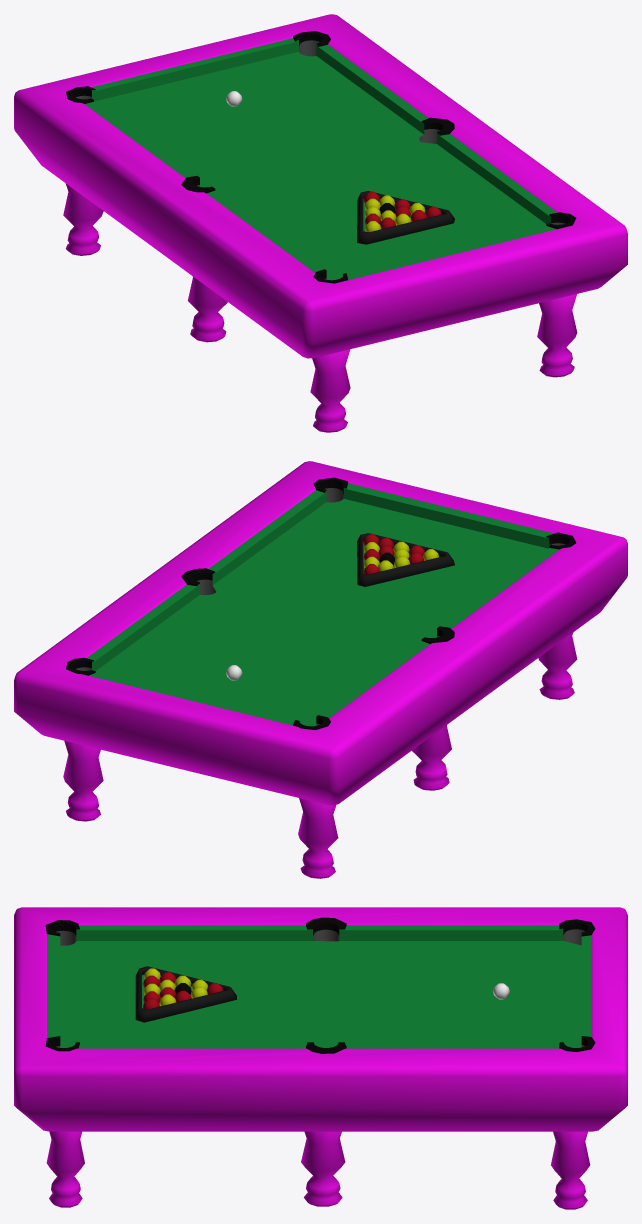
Rendered from Billard.fbx.
3 renders of one model, top to bottom at view 1: azimuth 30°, elevation 25°; view 2: azimuth 150°, elevation 25°; view 3: azimuth 270°, elevation 25°, orthographic. The views are drawn at different scales.
Parts seen in each view (by area): view 1: Bois, Billard; view 2: Bois, Billard; view 3: Bois, Billard.
Part boxes in pixels (x1,y1,x2,y2): Bois: (14, 14, 627, 432); Billard: (66, 31, 576, 283); Bois: (14, 461, 627, 878); Billard: (66, 477, 576, 729); Bois: (14, 907, 627, 1209); Billard: (45, 917, 595, 1053).
Bounding box in the file's own units: 815 × 370 × 1285.
